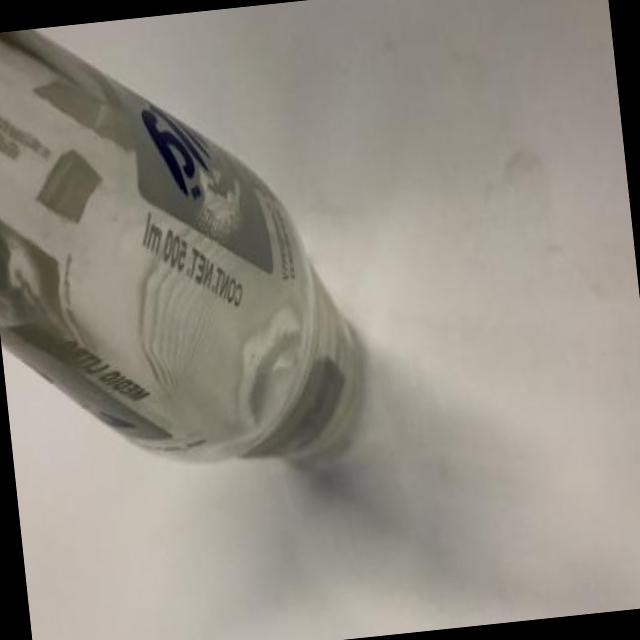chai_thuy_tinh: (0, 28, 368, 474)
